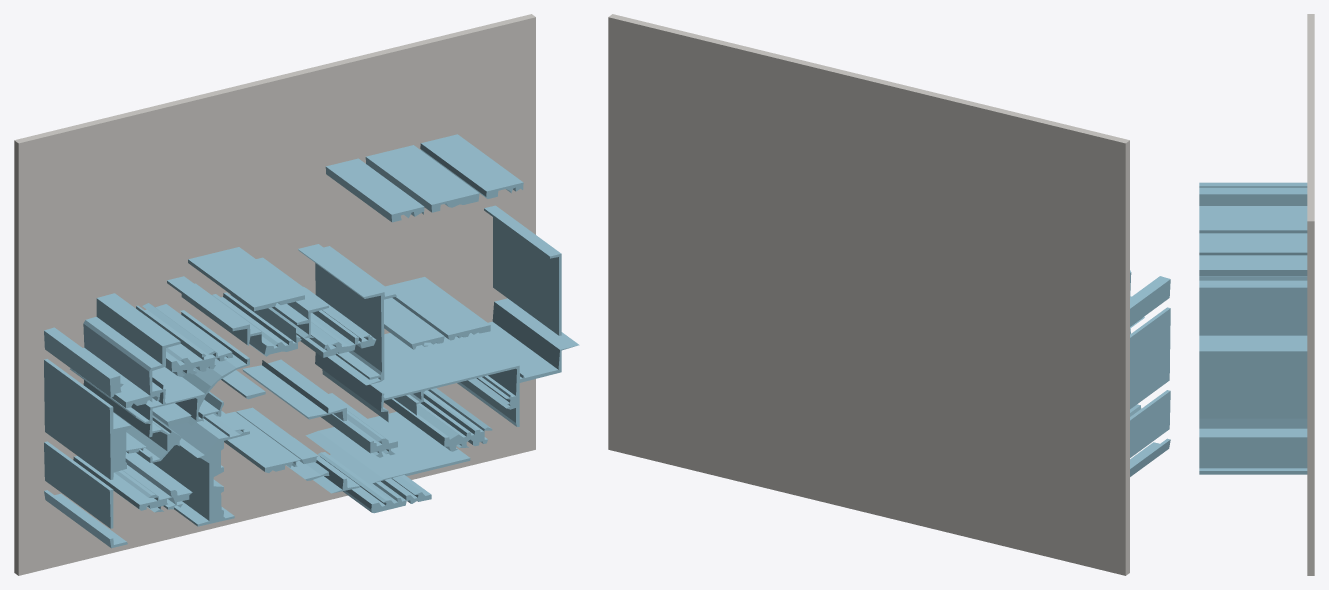
The picture shows the model from 3 angles, left to right: view 1: azimuth 30°, elevation 25°; view 2: azimuth 150°, elevation 25°; view 3: azimuth 270°, elevation 25°; orthographic projection. The views are drawn at different scales.
Parts seen in each view (by area): view 1: world; view 2: world; view 3: world.
Boxes of the visible parts, x1,y1,x2,y2 form: world: (14, 14, 579, 575); world: (608, 14, 1170, 575); world: (1199, 14, 1314, 575).
Bounding box in the file's own units: 10.23 × 8.17 × 2.41.
